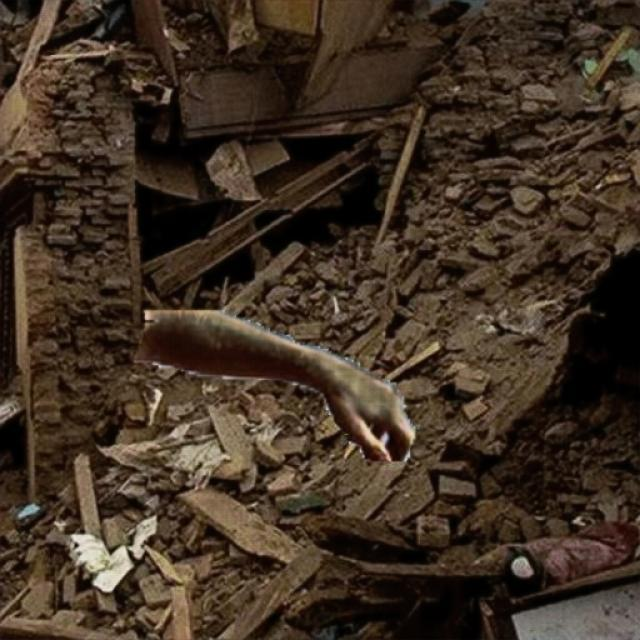Person in Rubble: (134, 310, 416, 460)
